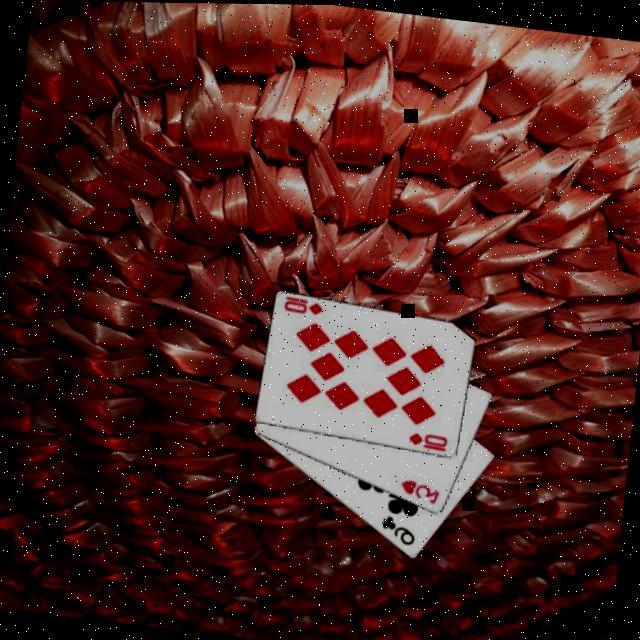10D: (279, 294, 325, 320), (404, 430, 449, 456)
3H: (396, 477, 442, 508)
9C: (375, 512, 418, 549)
